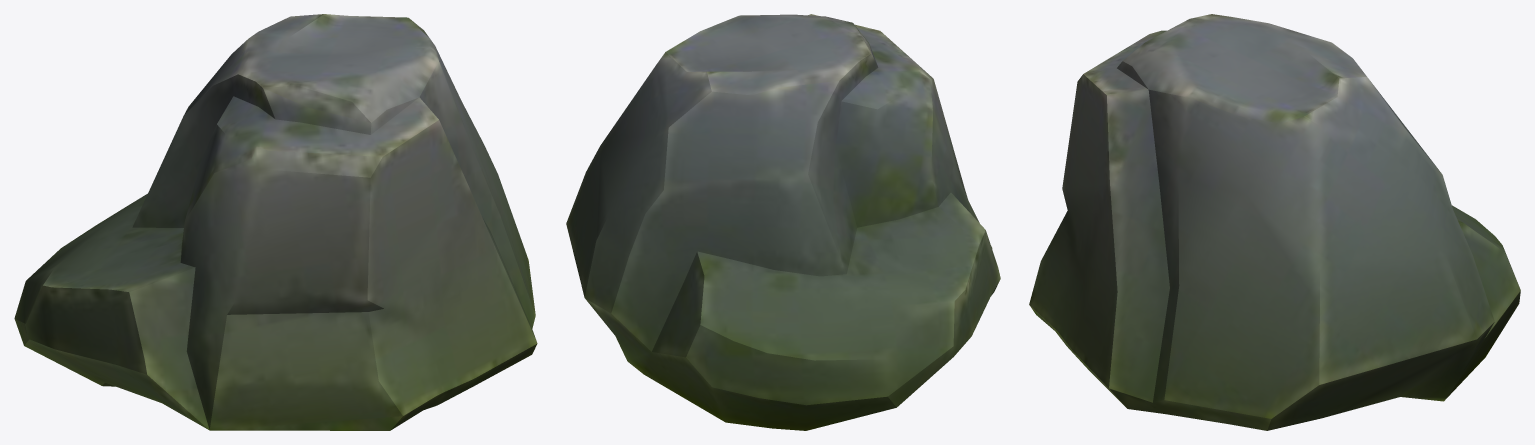
File: rock_medium_1.gltf
The picture shows the model from 3 angles, left to right: view 1: azimuth 30°, elevation 25°; view 2: azimuth 150°, elevation 25°; view 3: azimuth 270°, elevation 25°; orthographic projection. The views are drawn at different scales.
Visible parts, largest first — view 1: Rock_Medium_1; view 2: Rock_Medium_1; view 3: Rock_Medium_1.
Boxes of the visible parts, x1,y1,x2,y2 form: Rock_Medium_1: [14, 14, 537, 430]; Rock_Medium_1: [566, 14, 1000, 430]; Rock_Medium_1: [1029, 14, 1520, 430].
Size of the model in its own units: 3.23 by 2.26 by 2.99.
1 material, 1 textured.
